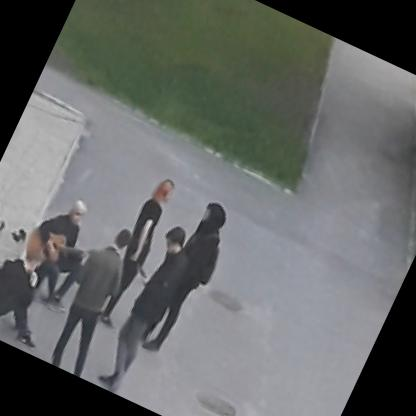Human Body: (84, 216, 210, 401), (126, 186, 250, 364), (30, 213, 157, 381), (7, 186, 107, 312), (102, 169, 191, 302), (0, 232, 81, 353), (0, 206, 26, 307), (0, 191, 17, 285)
